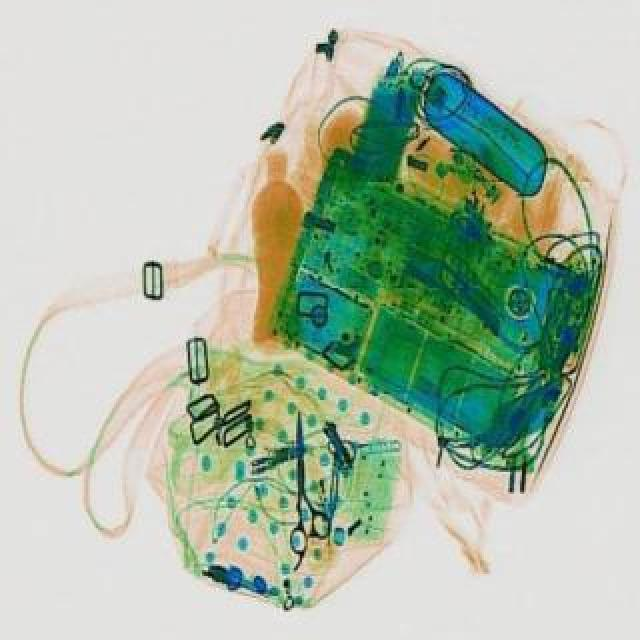pliers: (276, 408, 334, 550)
